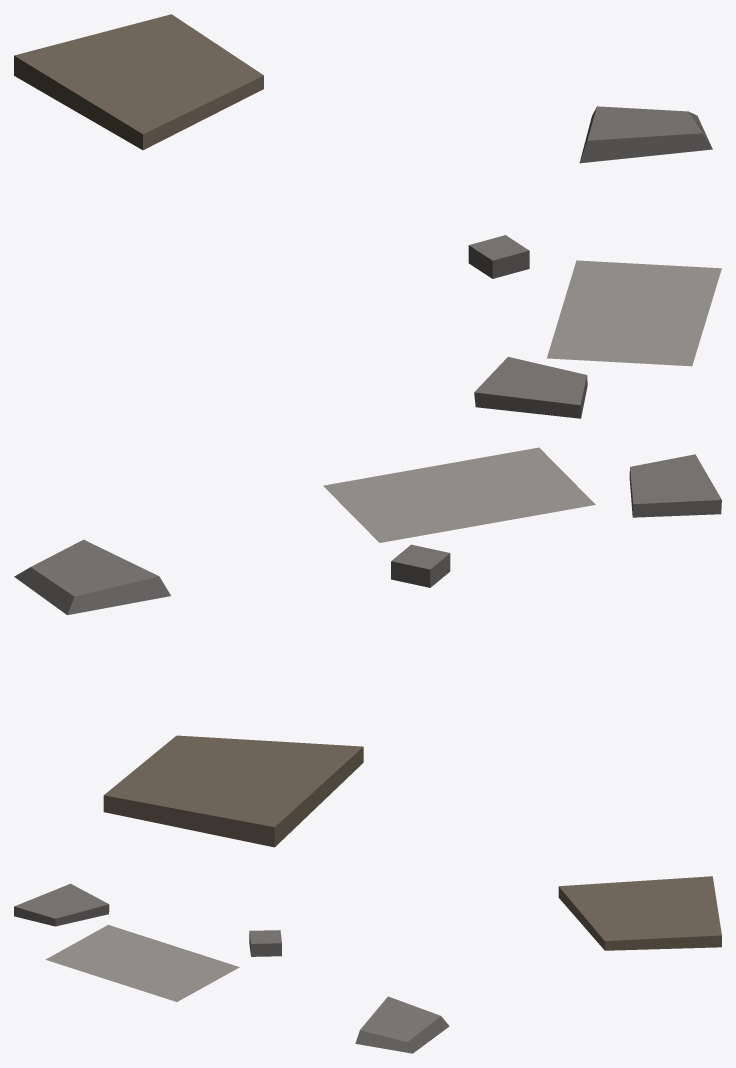
File: AI_Env_GroundDirt_09.fbx
3 views of the same model, one above another, from view 1: azimuth 30°, elevation 25°; view 2: azimuth 150°, elevation 25°; view 3: azimuth 270°, elevation 25° (orthographic). The views are drawn at different scales.
Visible parts, largest first — view 1: AI_Env_GroundDirt_09; view 2: AI_Env_GroundDirt_09; view 3: AI_Env_GroundDirt_09.
Boxes of the visible parts, box(x1,y1,x2,y2) form: AI_Env_GroundDirt_09: box(14, 14, 721, 418); AI_Env_GroundDirt_09: box(14, 447, 721, 847); AI_Env_GroundDirt_09: box(14, 876, 721, 1053).
Bounding box in the file's own units: 1.26 × 0.0558 × 2.32.
